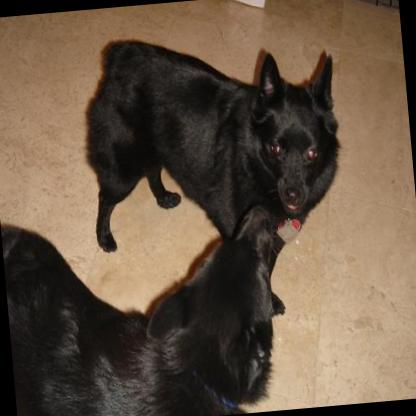schipperke: (76, 20, 352, 330), (0, 195, 299, 416)
